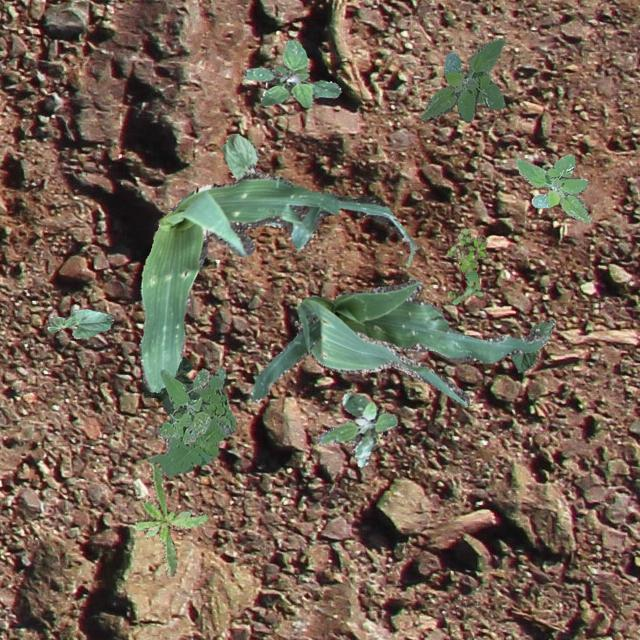crop: (138, 172, 418, 392), (248, 278, 544, 404), (220, 132, 282, 228), (140, 356, 198, 412), (509, 318, 554, 372), (46, 308, 114, 338)
weed: (148, 366, 235, 476), (134, 461, 208, 576), (420, 38, 504, 122), (242, 38, 340, 106), (316, 390, 396, 466), (514, 152, 590, 222), (154, 368, 210, 444), (444, 228, 486, 302)
